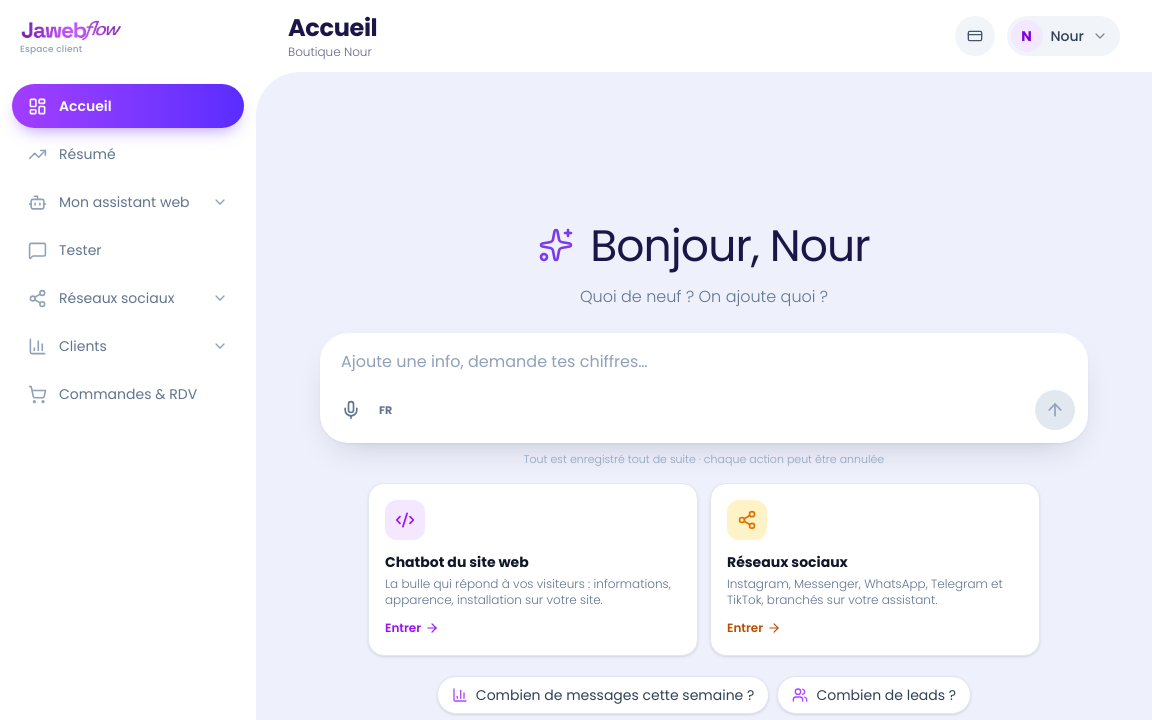
Test: premier message d’un nouveau marchand › enregistrement impossible : le chat le dit et n’appelle pas l’IA
The image size is (1152, 720).
Type "salut" into the text box named "Ton message pour mon IA" at (704, 362), box x1=321 y1=334 x2=1087 y2=390
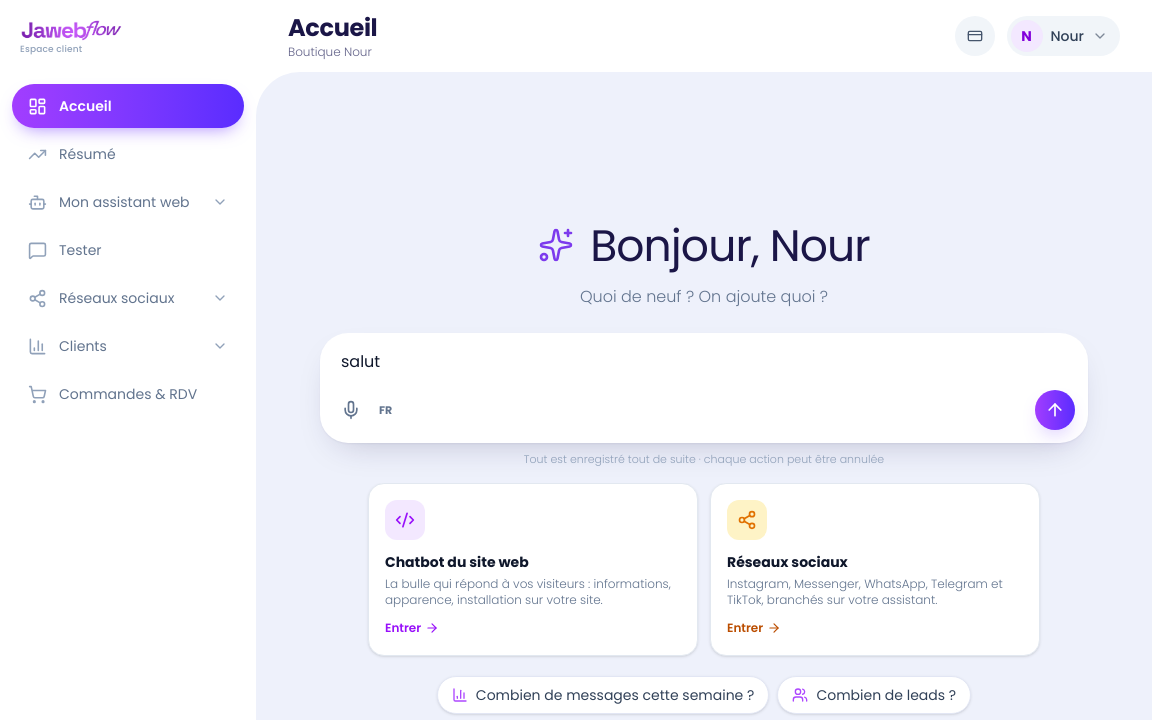
Press Enter in the text box named "Ton message pour mon IA", box x1=321 y1=334 x2=1087 y2=390
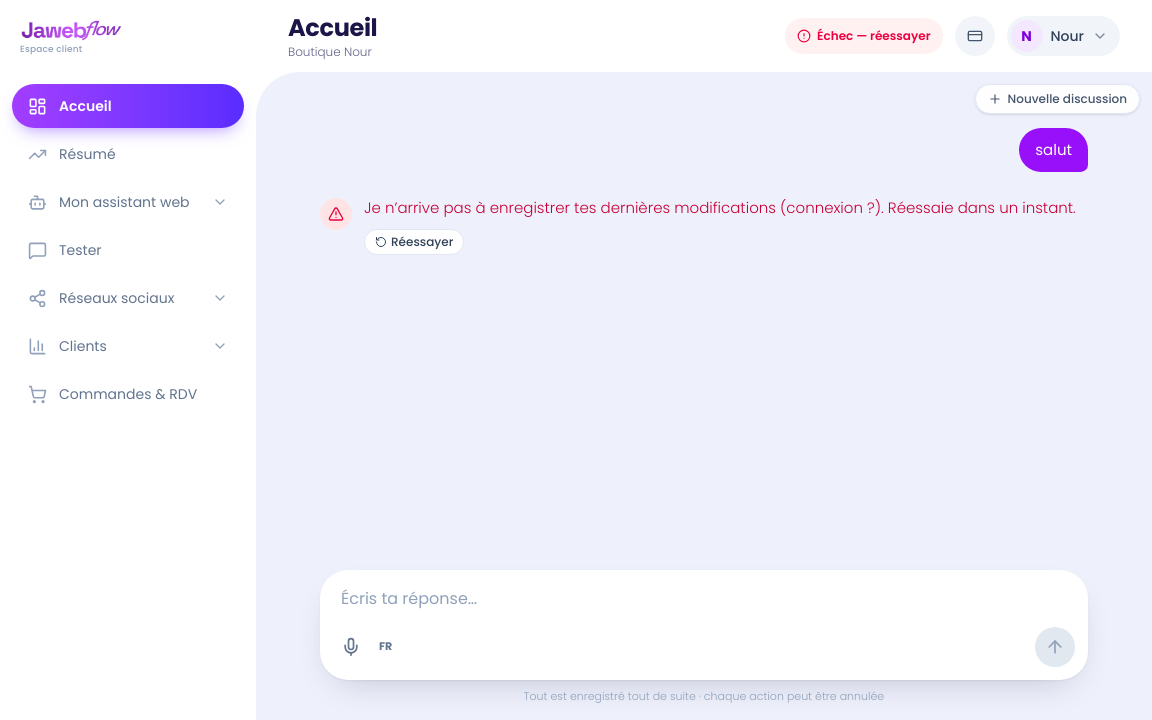
Result: the text "Je n’arrive pas à enregistrer tes dernières modifications" is shown at x1=364 y1=197 x2=1076 y2=218
